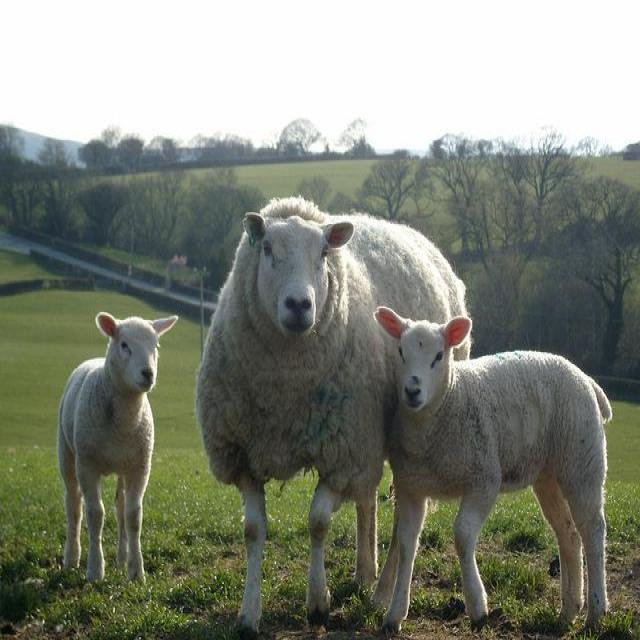Sheep: (207, 192, 467, 632), (373, 308, 612, 625), (57, 312, 177, 580)
